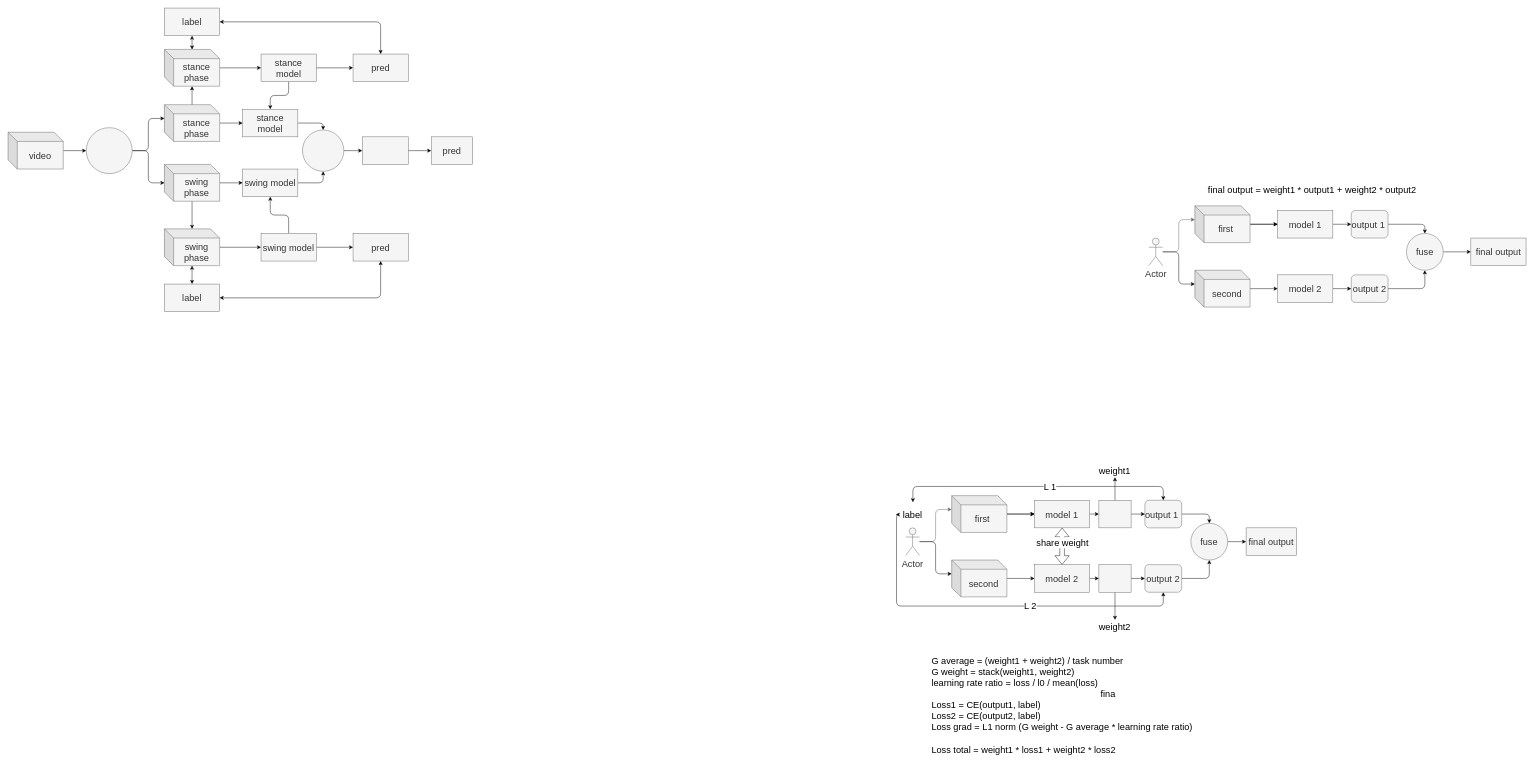
Image size: 1534x766. Some labels were removed from this diagram. The shapes that lost their labels are listed below. From the top down, each one's centre as x and y in pixels, then its label:
[109,150]: gait cycle module
[323,150]: compare
[385,150]: model
[1114,514]: head 1
[1114,578]: head 2
